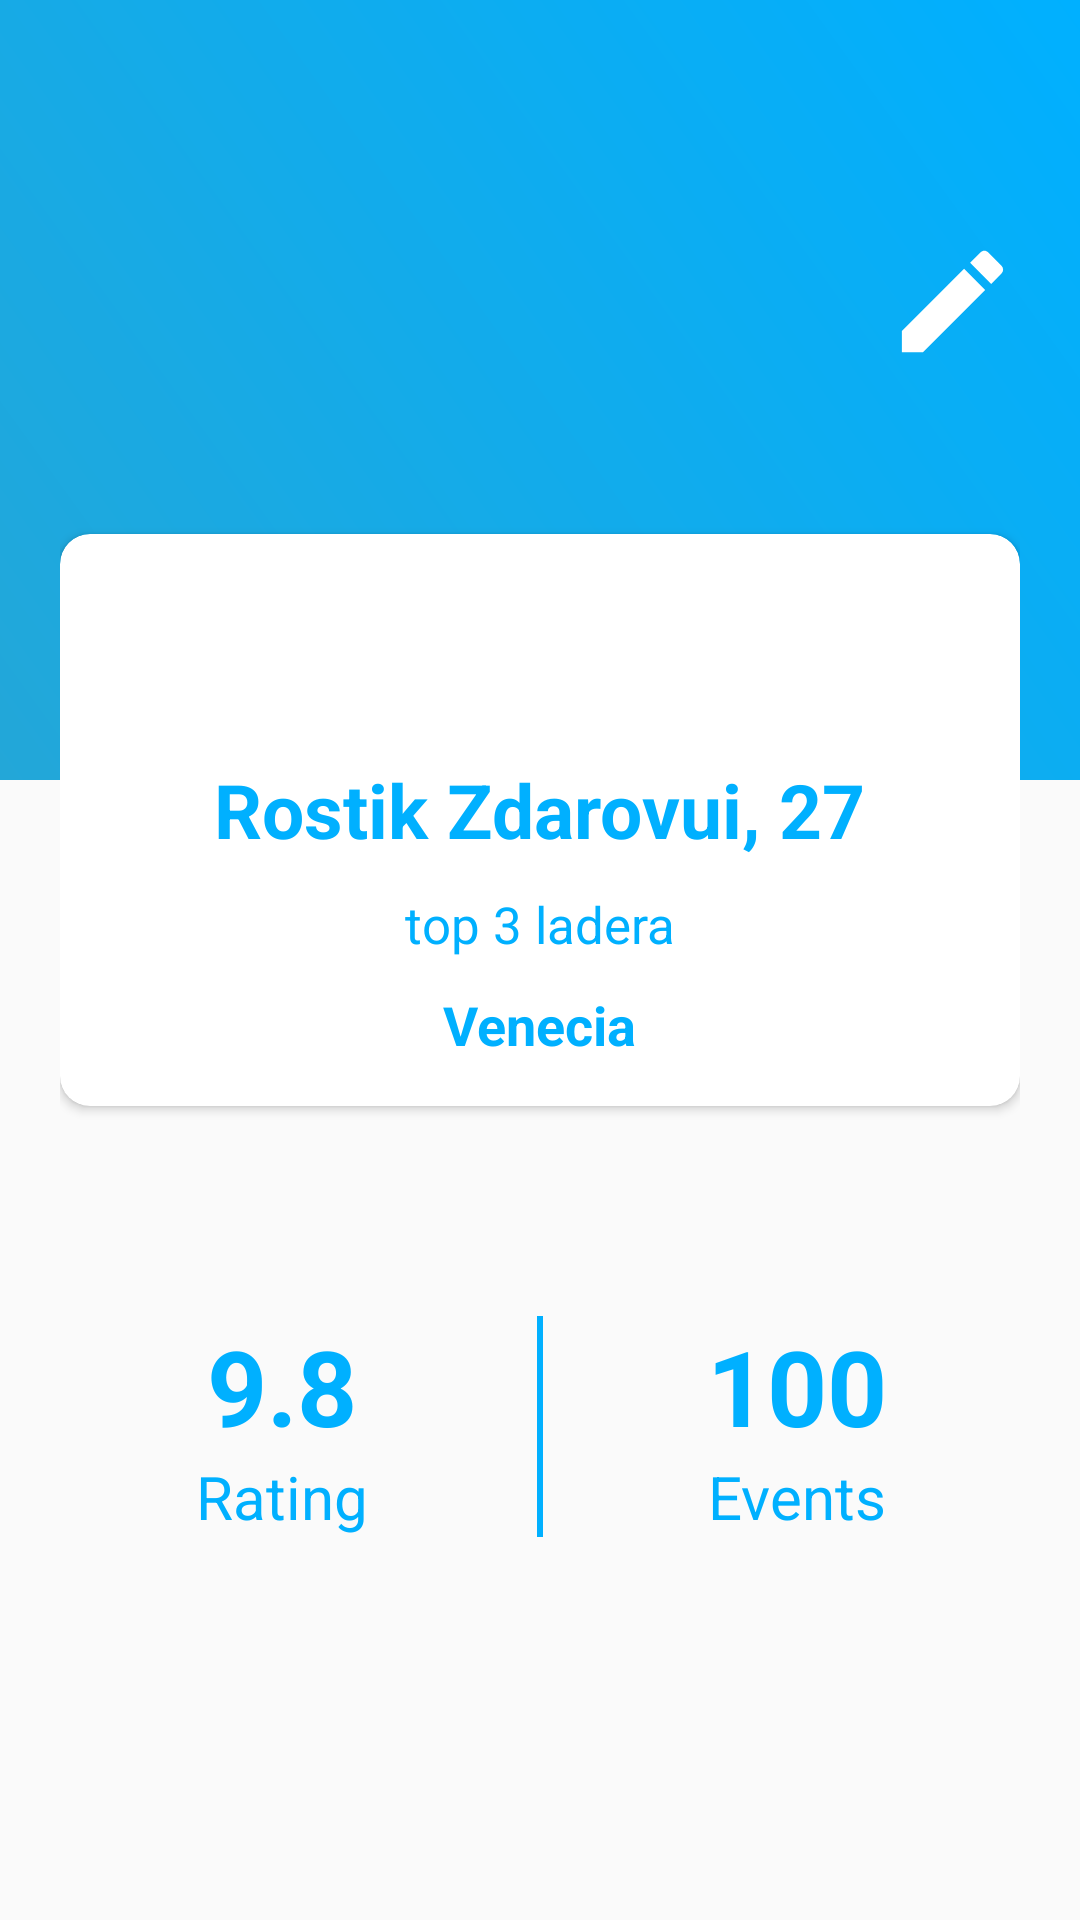

Icon click points for this 1080 × 1920 phone screenshot, format [x,y]:
edit: [952,301]
